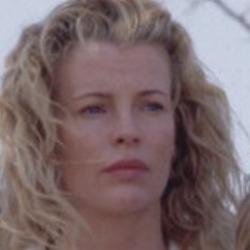face: (3, 4, 232, 240)
